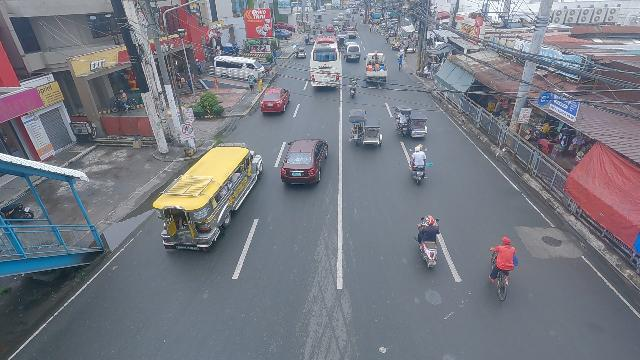bus: (309, 37, 342, 87)
car: (278, 136, 329, 186), (258, 86, 291, 115), (345, 29, 357, 39), (326, 24, 335, 33), (331, 18, 341, 26), (342, 20, 350, 30), (337, 13, 344, 20)
jeepney: (154, 143, 263, 252), (336, 34, 349, 51), (314, 14, 322, 21)
motorcycle: (416, 213, 441, 270), (408, 144, 434, 184), (349, 77, 358, 98), (319, 27, 324, 36), (338, 25, 342, 34), (312, 27, 316, 35)
truck: (364, 51, 387, 86)
van: (212, 55, 262, 82), (342, 41, 362, 61)
